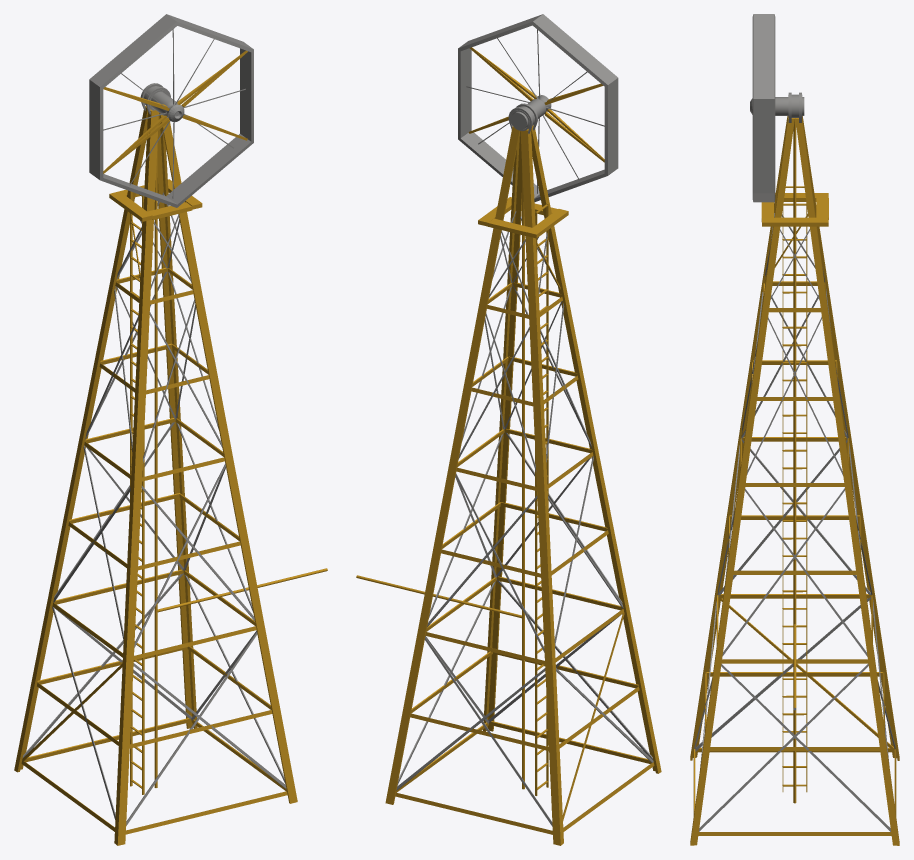
Rendered from Wind_Pump.fbx.
3 renders of one model, left to right at view 1: azimuth 30°, elevation 25°; view 2: azimuth 150°, elevation 25°; view 3: azimuth 270°, elevation 25°, orthographic. The views are drawn at different scales.
Visible parts, largest first — view 1: Wind_Pump_geo; view 2: Wind_Pump_geo; view 3: Wind_Pump_geo.
Boxes of the visible parts, left/top/right/bottom form: Wind_Pump_geo: left=14, top=14, right=327, bottom=845; Wind_Pump_geo: left=356, top=14, right=661, bottom=845; Wind_Pump_geo: left=690, top=14, right=899, bottom=845.
Size of the model in its own units: 31.85 by 90.98 by 21.88.
